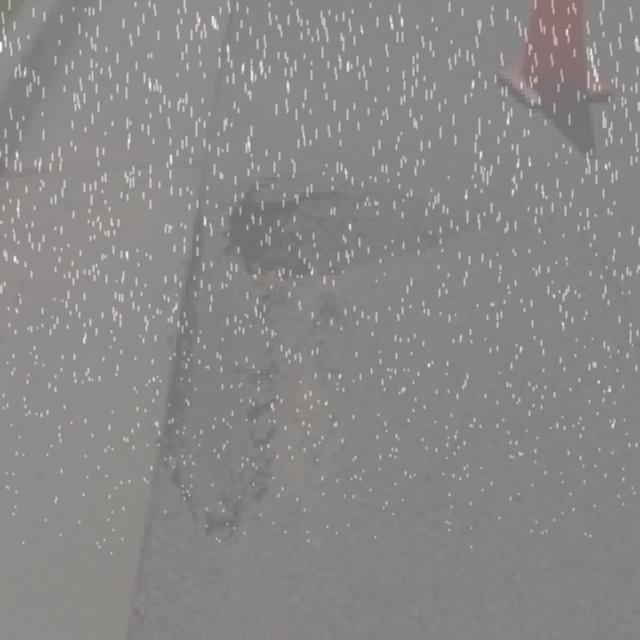Pothole: (146, 337, 344, 550), (176, 160, 406, 314)
